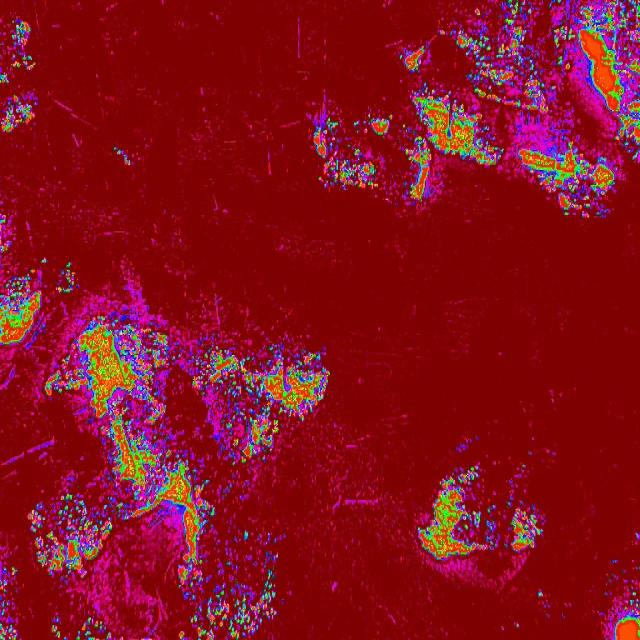fire: (0, 254, 278, 640), (400, 0, 640, 210), (418, 464, 542, 566), (300, 106, 392, 196), (0, 9, 42, 135), (278, 343, 330, 423), (606, 591, 640, 640)
